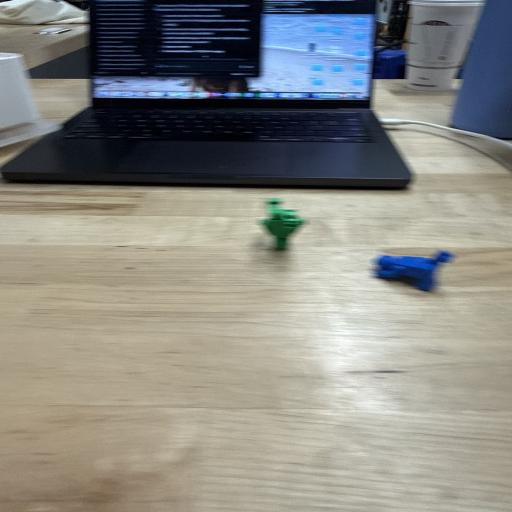blue-minifig: (375, 251, 454, 291)
green-minifig: (260, 198, 304, 249)
